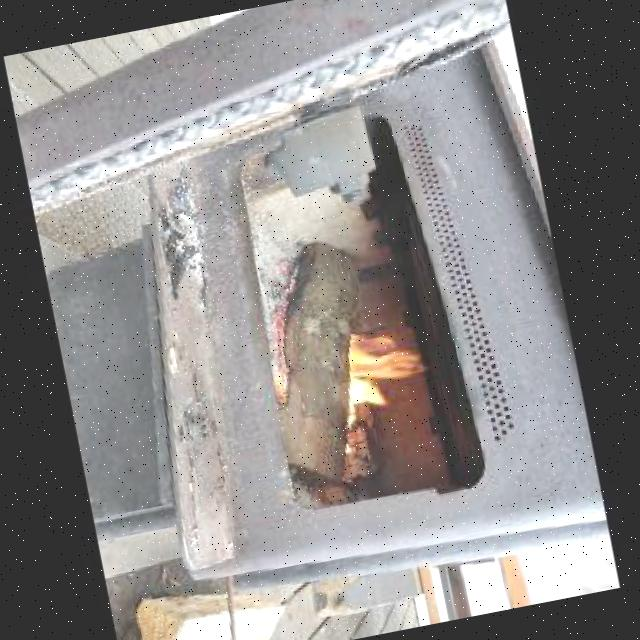fire: (326, 306, 430, 426)
